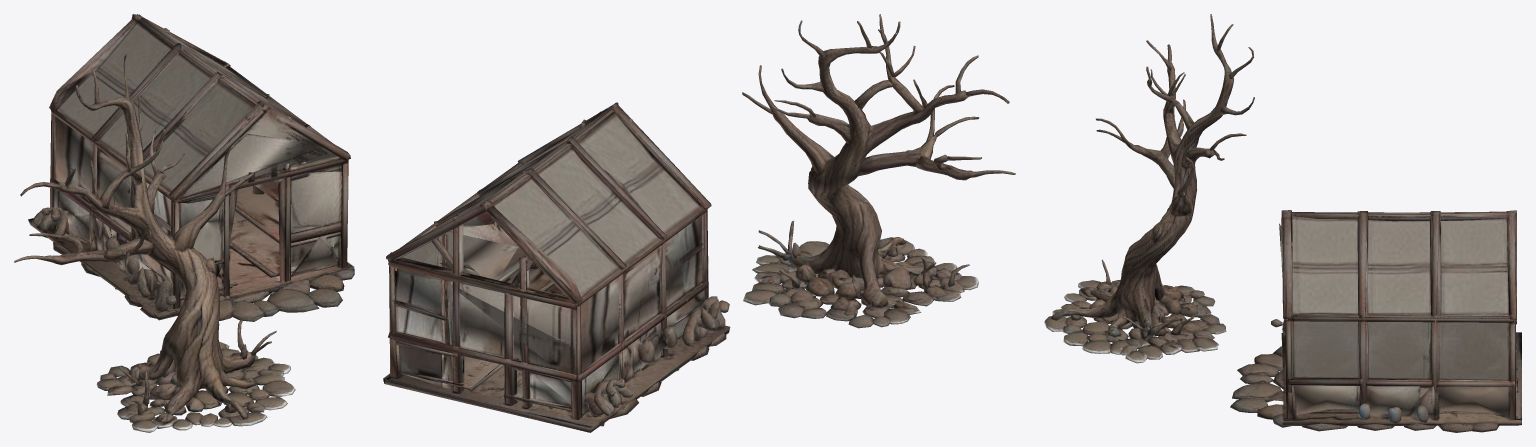
File: jd_estufa_arvore.glb
3 renders of one model, left to right at view 1: azimuth 30°, elevation 25°; view 2: azimuth 150°, elevation 25°; view 3: azimuth 270°, elevation 25°, orthographic. The views are drawn at different scales.
Parts seen in each view (by area): view 1: mesh_node; view 2: mesh_node; view 3: mesh_node.
Part boxes in pixels (x1,y1,x2,y2): mesh_node: (14, 14, 354, 432); mesh_node: (383, 14, 1015, 432); mesh_node: (1044, 14, 1521, 432).
Size of the model in its own units: 0.7021 by 0.4893 by 0.7695.
1 material, 1 textured.
